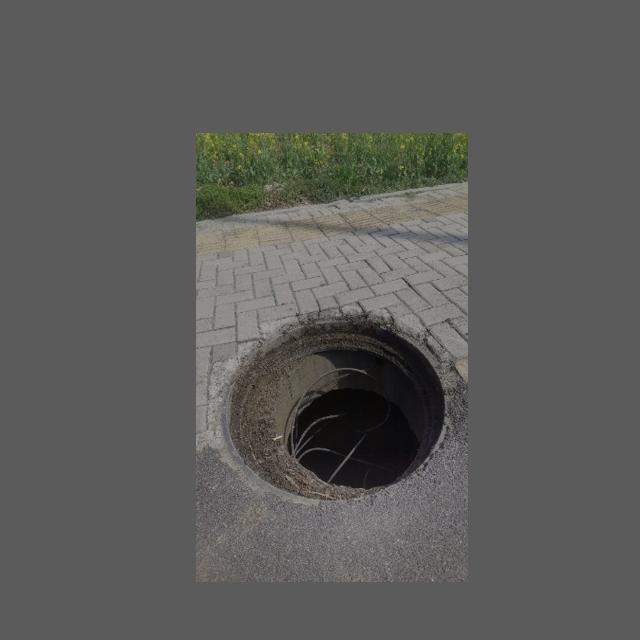lose: (221, 317, 448, 502)
